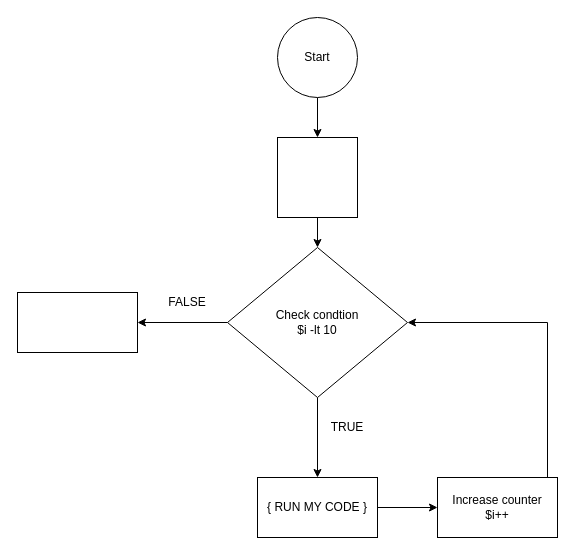
This 575x555 diagram has some shape labels left out. Here are the shapes that lost their labels. From the top down, the centre of each, then its label:
At point (317, 177): "Initialize Index $i = 0".
At point (77, 322): "Exit loop".
